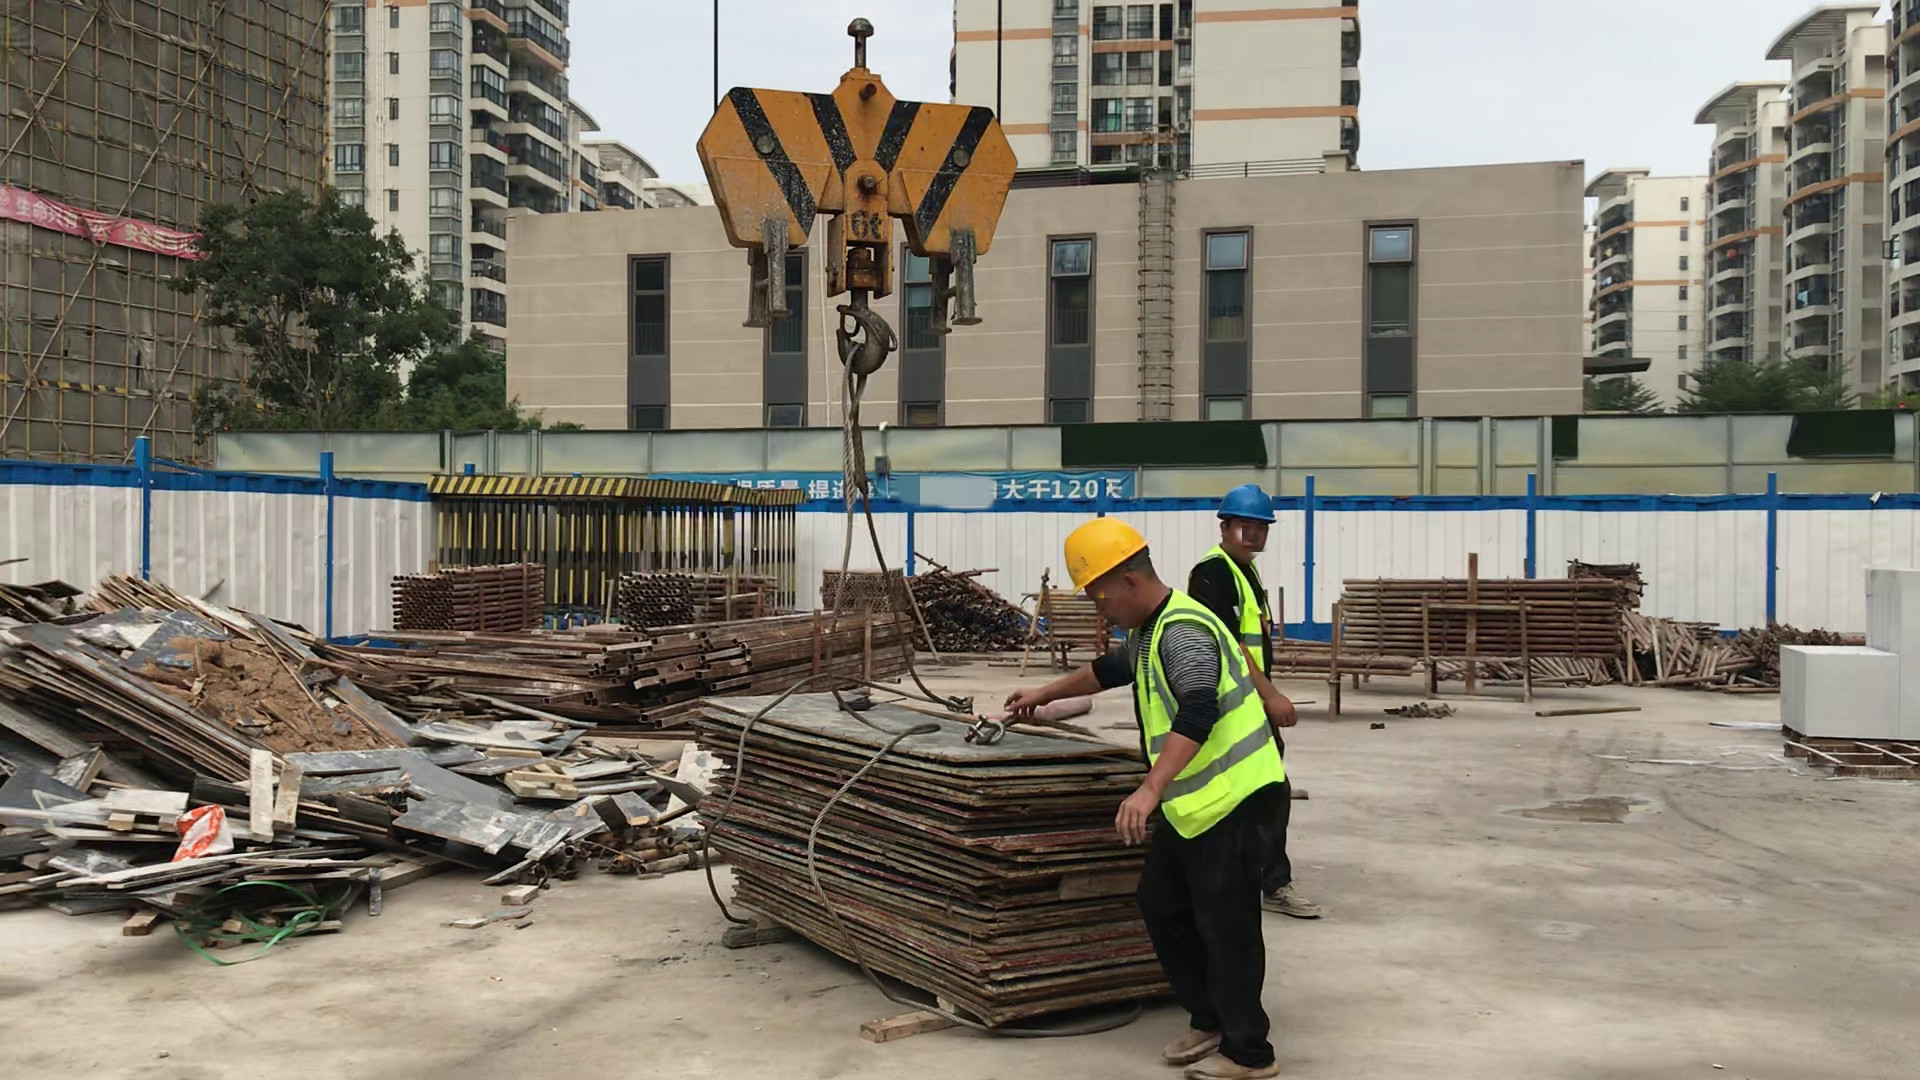board: (688, 690, 1172, 1034)
brick: (1780, 566, 1920, 745)
helmet: (1059, 520, 1150, 590), (1217, 484, 1278, 521)
hook: (685, 73, 1026, 379)
person: (1006, 517, 1282, 1078), (1189, 491, 1300, 739)
scaffold: (1351, 578, 1622, 664), (396, 567, 548, 629), (622, 572, 769, 624), (824, 568, 903, 613), (1040, 593, 1096, 644)
slogan: (732, 469, 1135, 505)
vest: (1125, 582, 1276, 842), (1199, 543, 1277, 682)
